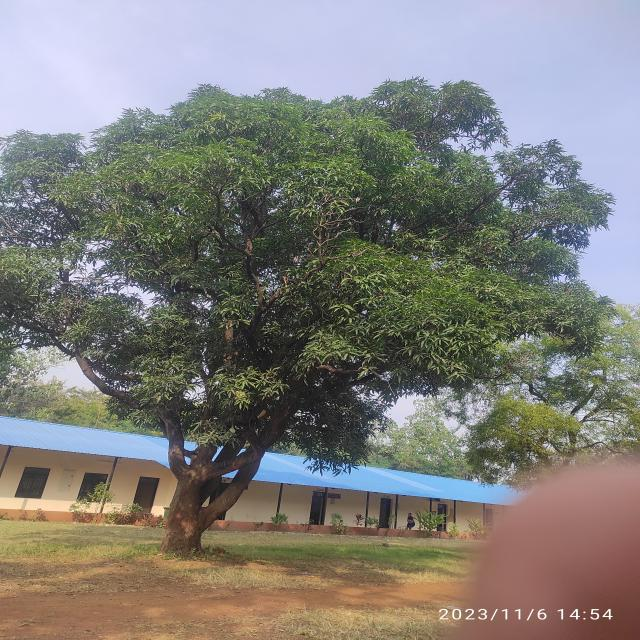Mango Tree: (27, 75, 613, 511)
